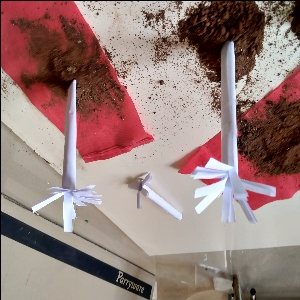weed: (190, 38, 278, 244), (39, 75, 100, 226), (123, 172, 186, 226)
